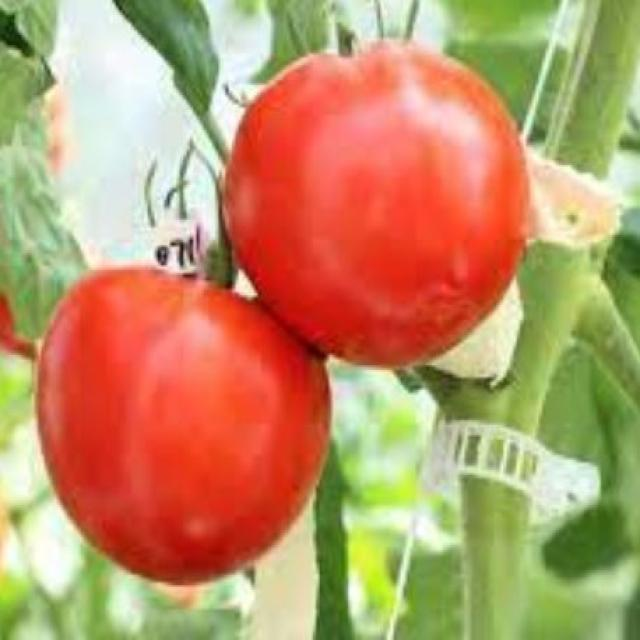Healthy: (227, 24, 536, 404), (36, 244, 322, 584)
